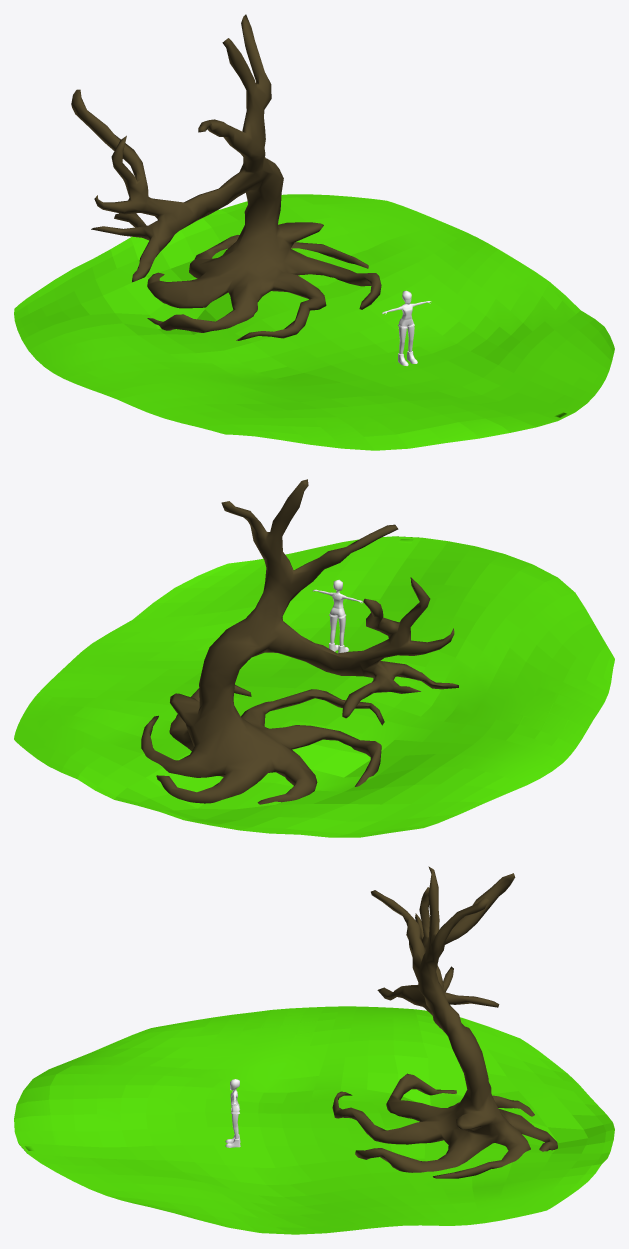
Rendered from GardenScenePlaceholder.fbx.
The picture shows the model from 3 angles, top to bottom: view 1: azimuth 30°, elevation 25°; view 2: azimuth 150°, elevation 25°; view 3: azimuth 270°, elevation 25°; orthographic projection. The views are drawn at different scales.
Visible parts, largest first — view 1: Plane, low poly, Bro; view 2: Plane, low poly, Bro; view 3: Plane, low poly, Bro.
Boxes of the visible parts, left/top/right/bottom form: Plane: left=14, top=194, right=614, bottom=450; low poly: left=71, top=14, right=381, bottom=340; Bro: left=382, top=290, right=431, bottom=365; Plane: left=14, top=536, right=614, bottom=837; low poly: left=141, top=479, right=458, bottom=804; Bro: left=313, top=579, right=363, bottom=653; Plane: left=14, top=1006, right=614, bottom=1234; low poly: left=332, top=866, right=557, bottom=1178; Bro: left=225, top=1079, right=240, bottom=1147.
Bounding box in the file's own units: 4006 × 2364 × 4711.
